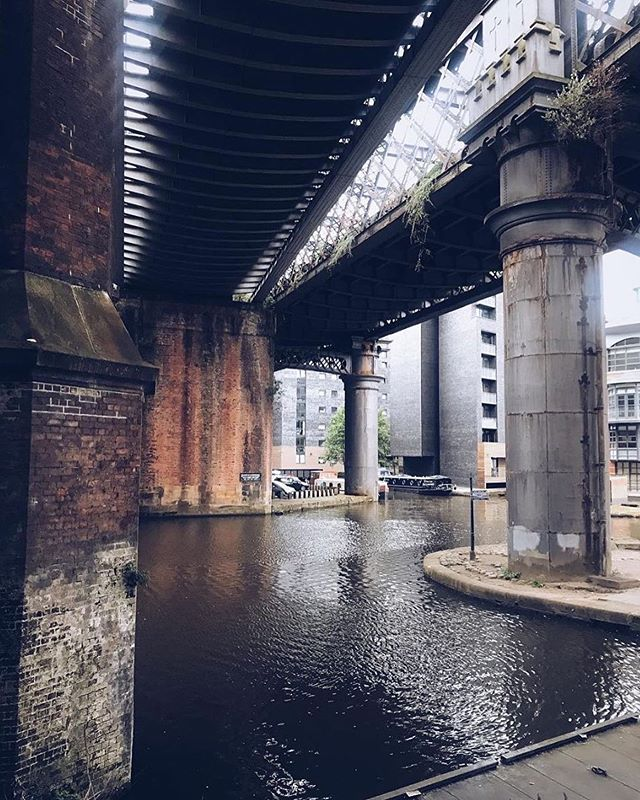bridge: (250, 1, 640, 402)
collumn: (467, 163, 622, 581), (332, 359, 396, 525)
river: (29, 499, 640, 788)
